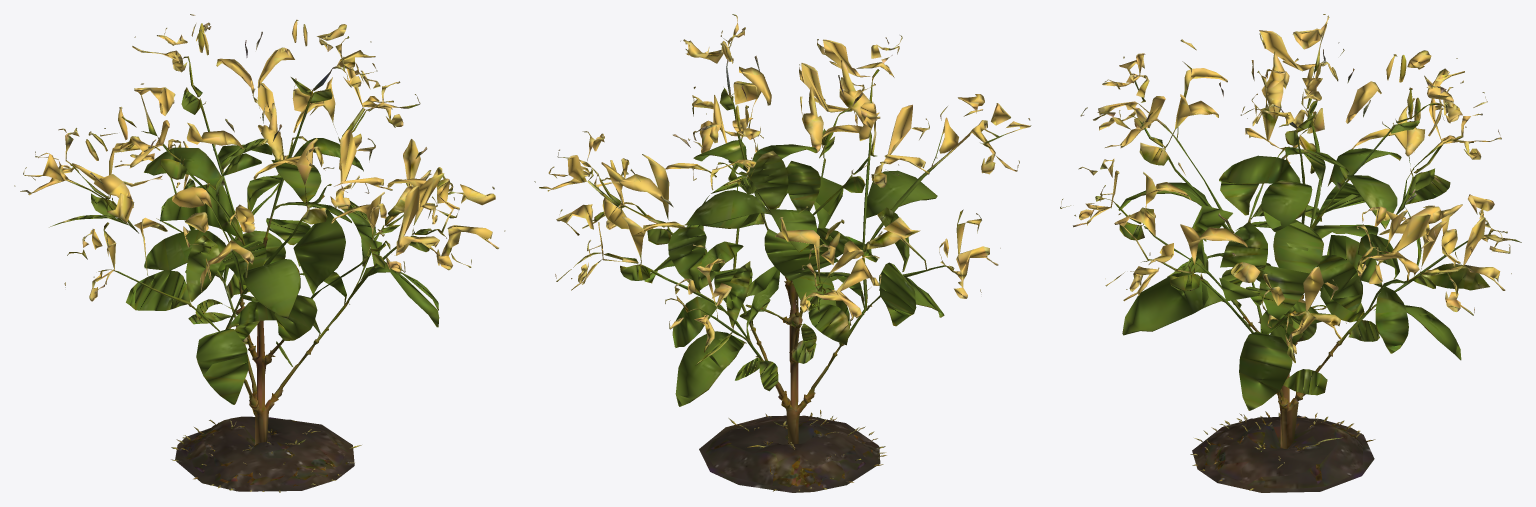
Rendered from JinLvXianHua.glb.
The picture shows the model from 3 angles, left to right: view 1: azimuth 30°, elevation 25°; view 2: azimuth 150°, elevation 25°; view 3: azimuth 270°, elevation 25°; orthographic projection.
Visible parts, largest first — view 1: tripo_node_07d2f48d-1af8-4b0f-8d5c-f8ae23947566; view 2: tripo_node_07d2f48d-1af8-4b0f-8d5c-f8ae23947566; view 3: tripo_node_07d2f48d-1af8-4b0f-8d5c-f8ae23947566.
Part boxes in pixels (<box>): tripo_node_07d2f48d-1af8-4b0f-8d5c-f8ae23947566: <box>14,14,505,492</box>; tripo_node_07d2f48d-1af8-4b0f-8d5c-f8ae23947566: <box>534,14,1031,492</box>; tripo_node_07d2f48d-1af8-4b0f-8d5c-f8ae23947566: <box>1060,14,1521,492</box>.
Bounding box in the file's own units: 0.998 × 0.998 × 0.998.
Materials: 1 (1 with a texture image).
